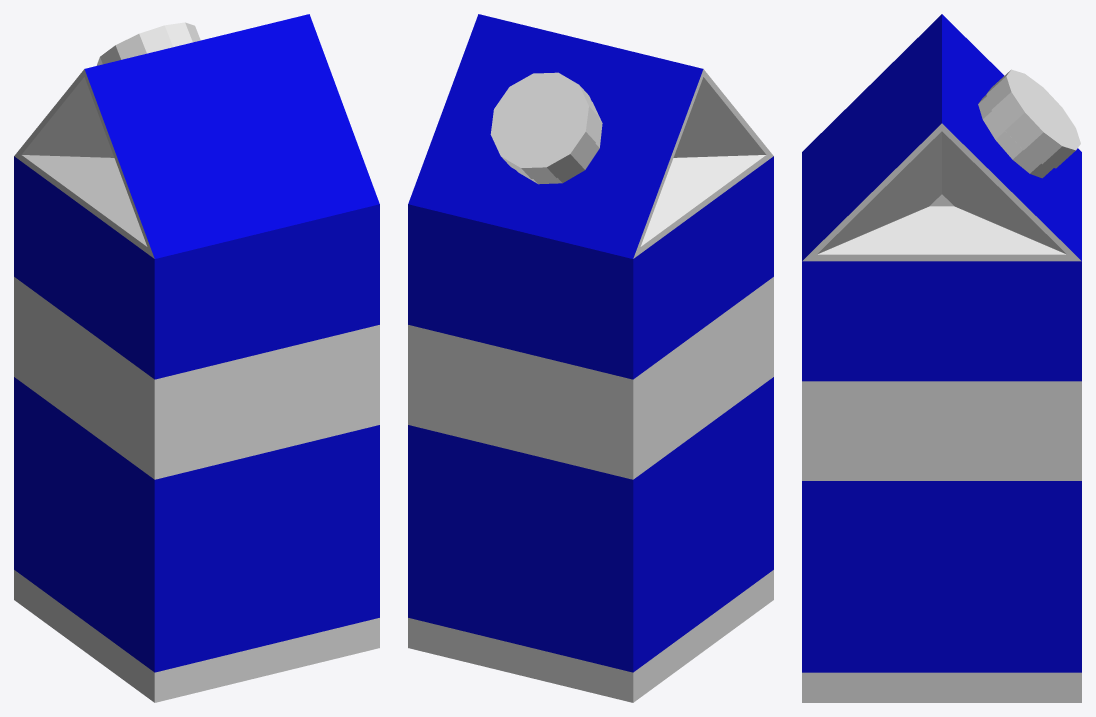
File: milk.glb
The picture shows the model from 3 angles, left to right: view 1: azimuth 30°, elevation 25°; view 2: azimuth 150°, elevation 25°; view 3: azimuth 270°, elevation 25°; orthographic projection.
Visible parts, largest first — view 1: Cube, Cylinder; view 2: Cube, Cylinder; view 3: Cube, Cylinder.
Boxes of the visible parts, bbox=[...] form: Cube: bbox=[14, 14, 379, 702]; Cylinder: bbox=[96, 22, 200, 65]; Cube: bbox=[408, 14, 773, 702]; Cylinder: bbox=[490, 72, 602, 184]; Cube: bbox=[802, 14, 1081, 702]; Cylinder: bbox=[978, 69, 1080, 178].
Bounding box in the file's own units: 0.5789 × 1.43 × 0.6268.
